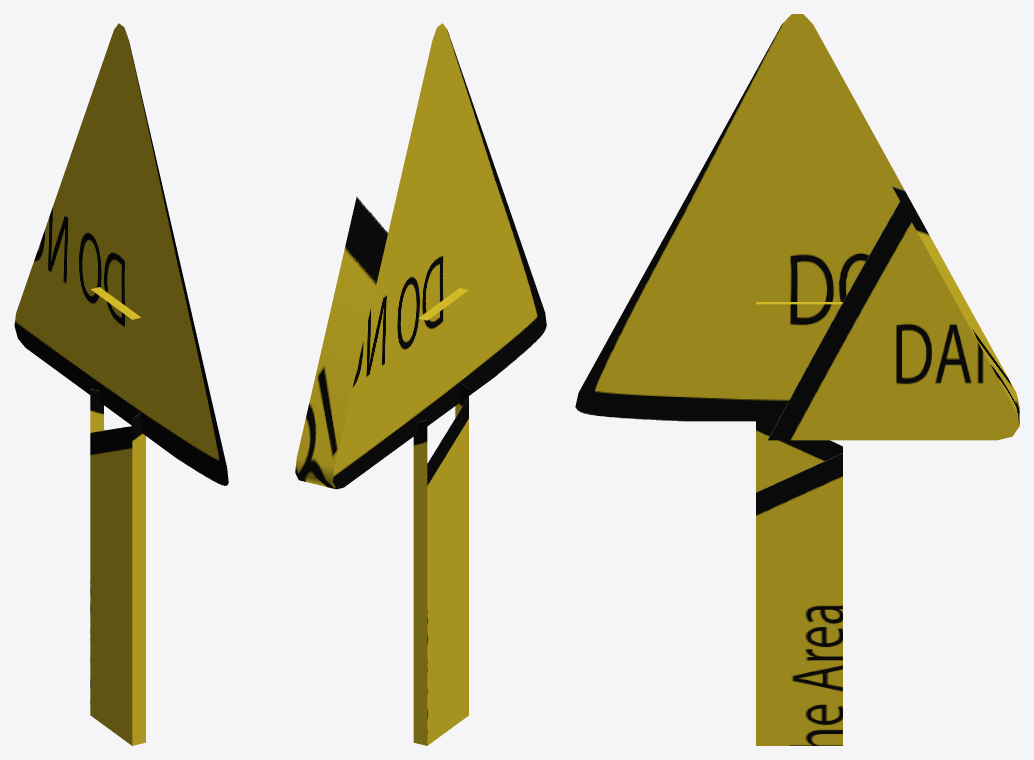
File: Sign Triangle.fbx
The picture shows the model from 3 angles, left to right: view 1: azimuth 30°, elevation 25°; view 2: azimuth 150°, elevation 25°; view 3: azimuth 270°, elevation 25°; orthographic projection. The views are drawn at different scales.
Parts seen in each view (by area): view 1: Post.001; view 2: Post.001; view 3: Post.001.
Boxes of the visible parts, left/top/right/bottom form: Post.001: left=14, top=23, right=228, bottom=745; Post.001: left=295, top=23, right=546, bottom=745; Post.001: left=575, top=14, right=1019, bottom=745.
Bounding box in the file's own units: 34.69 × 496 × 273.
